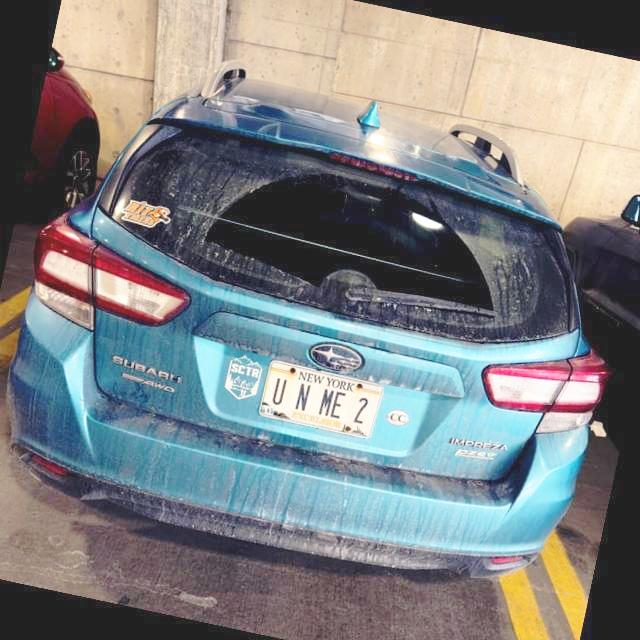license_plate: (253, 356, 393, 448)
